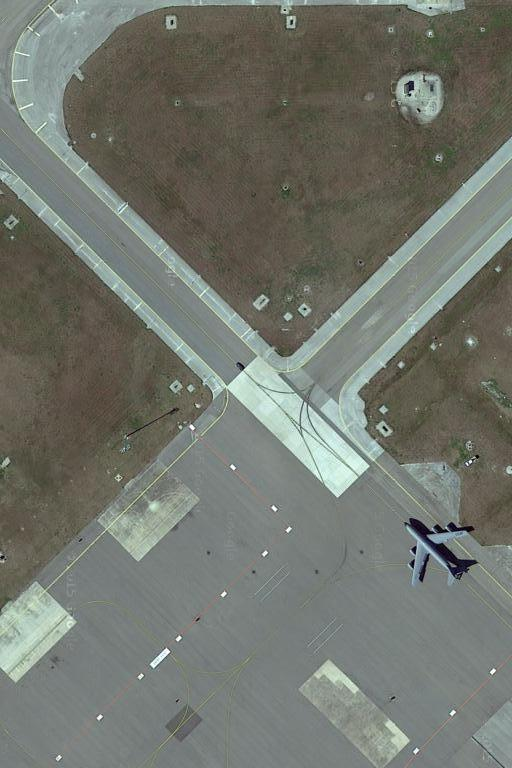KC-135: (399, 517, 475, 589)
